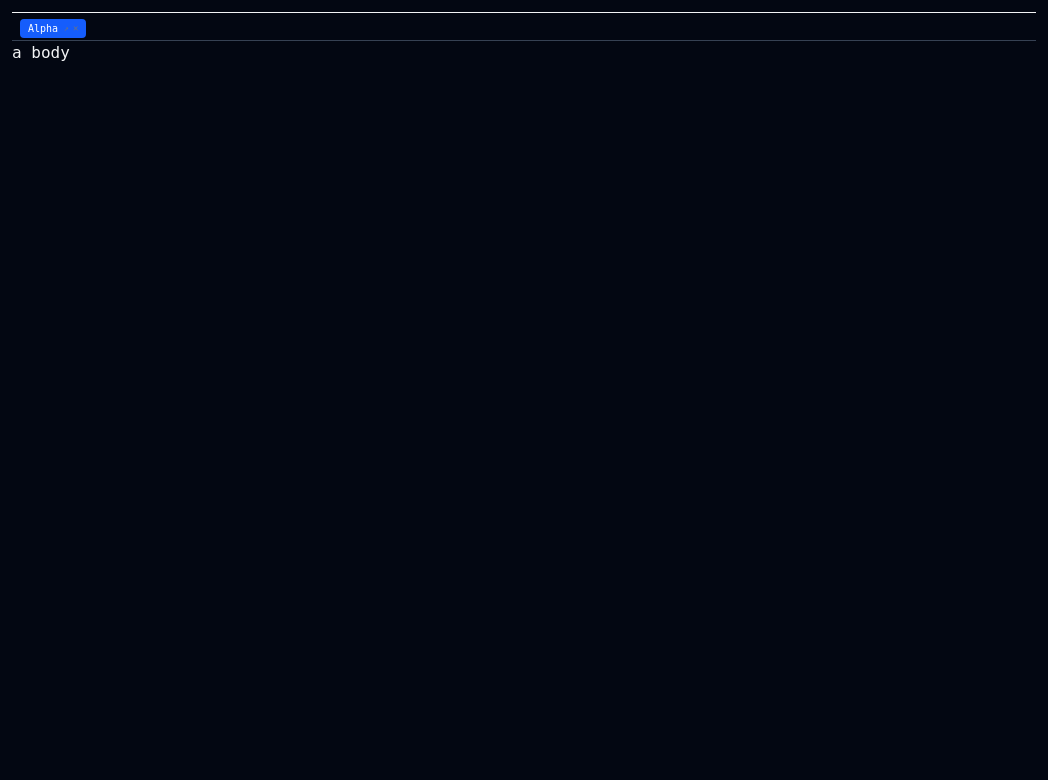
Test: BottomPanelContainer › popping a panel out › drops the whole tab strip when every visible panel is floating
Step 1. Click the button titled "Pop out" → click(66, 28), box [64,22,69,34]
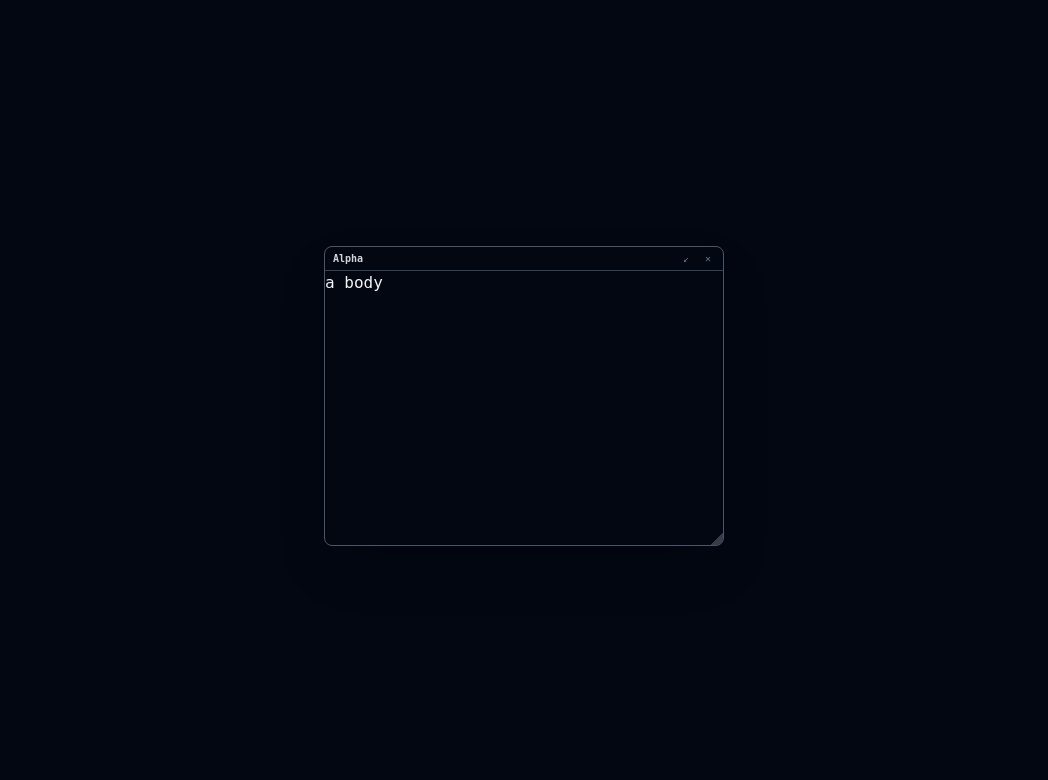
Expected: the element with class "z-50" is shown, [324,246,724,546]
